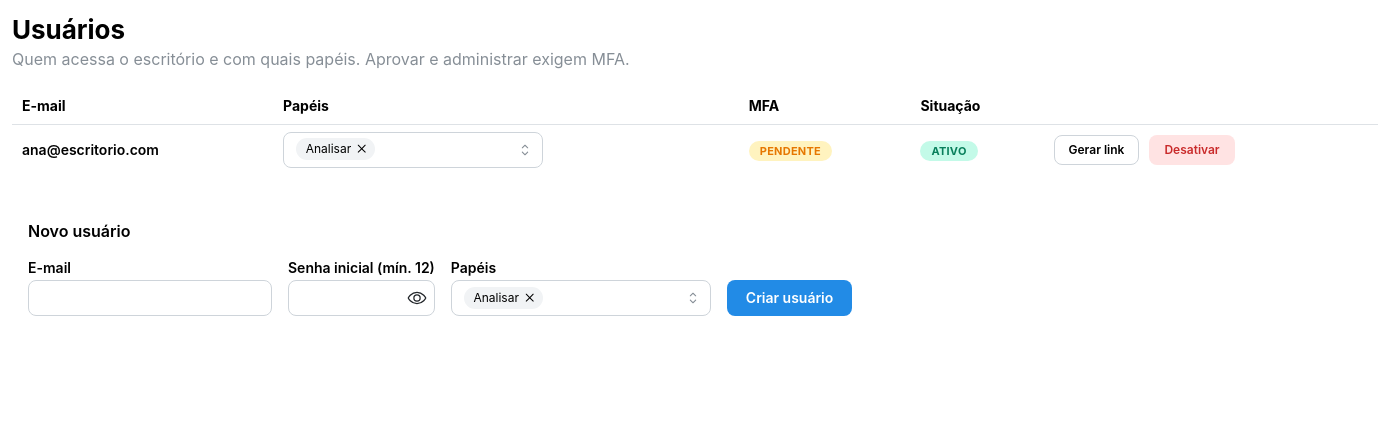
usuários › gera o link de redefinição de uso único
This screenshot has width=1378, height=437.
Click the button "Gerar link". click: [1096, 150]
box: top-left (1054, 135), bottom-right (1139, 165)
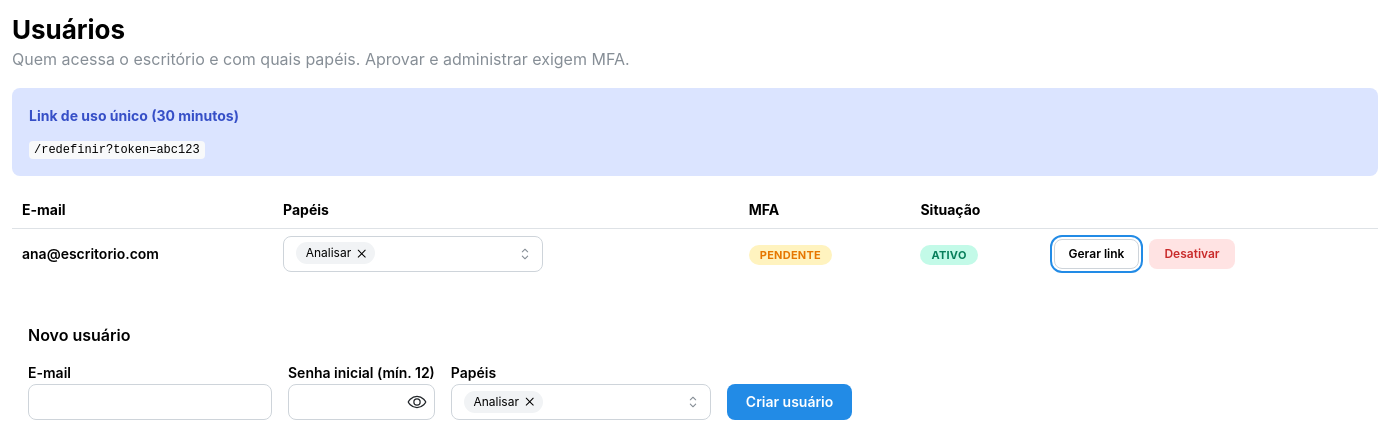
Result: the text "/redefinir?token=abc123" is shown at top-left (29, 141), bottom-right (205, 159)
